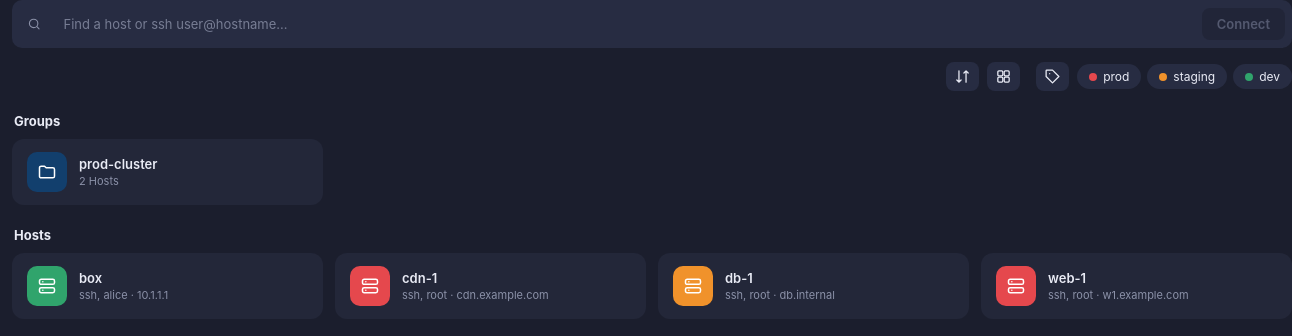
Test: HostList › searches across all groups by label, hostname, user and tag
The width and height of the screenshot is (1292, 336).
Type "NGINX" into the field named "Search hosts".
click(622, 24); type("NGINX")  # box [52,5,1192,43]
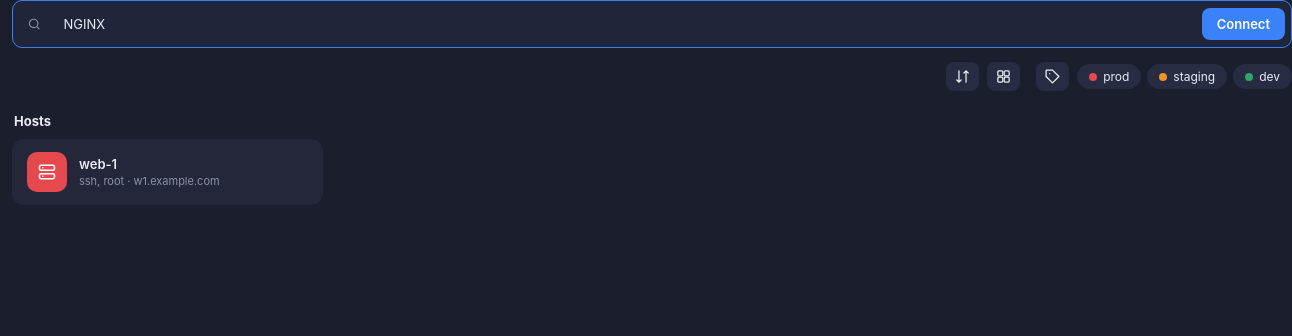
Replace the text in the field named "Search hosts" with "alice" at (622, 24), box [52,5,1192,43]
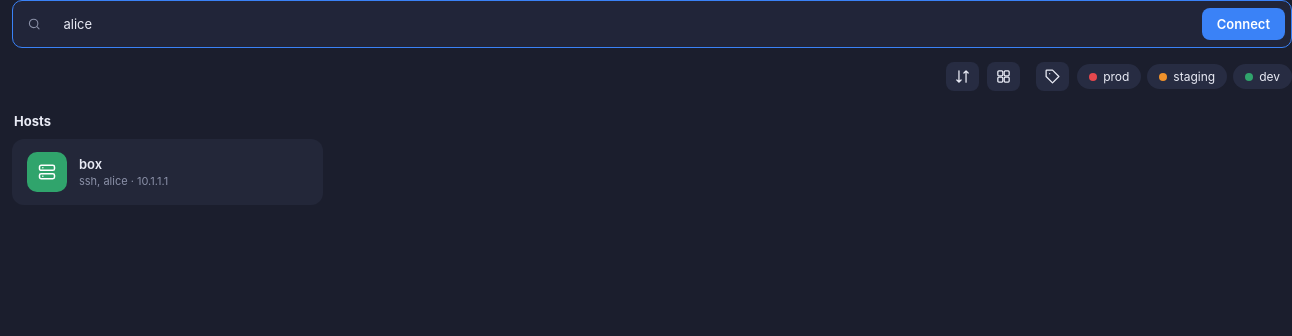
Replace the text in the field named "Search hosts" with "zzz" at (622, 24), box [52,5,1192,43]
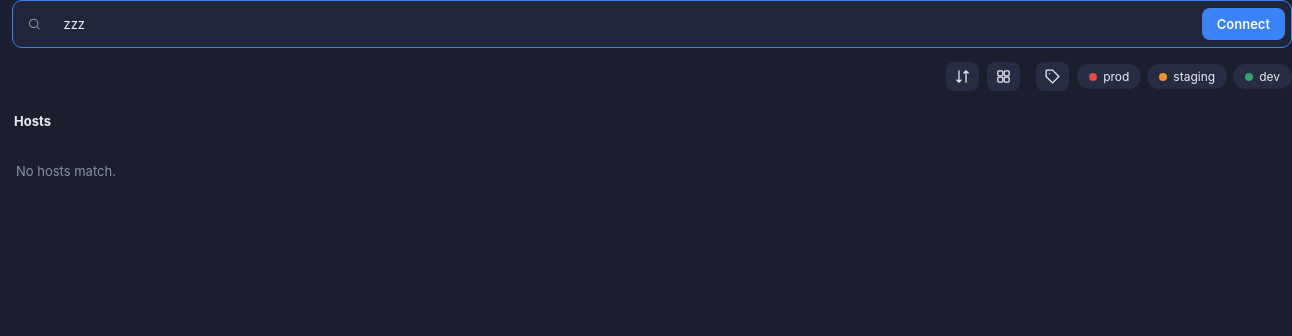
Check: the heading "Groups" is not shown
Check: the text "No hosts match." is shown, box [16,163,116,179]
